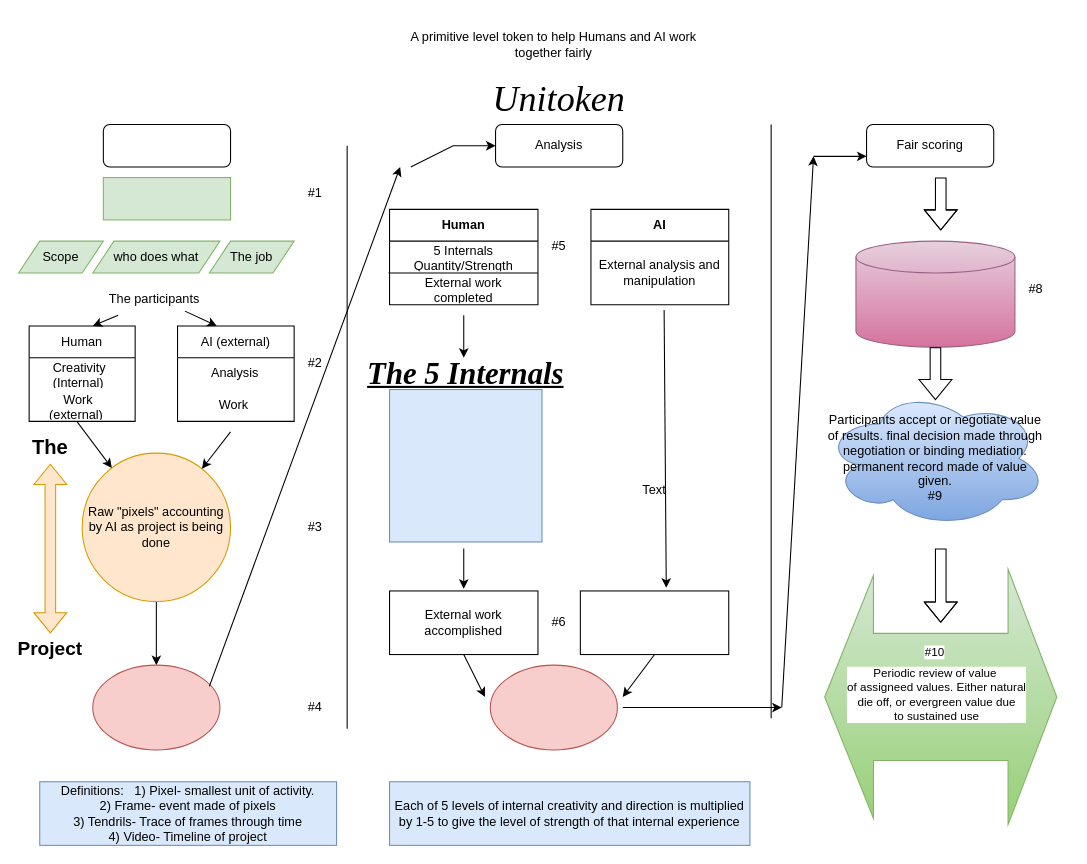
Some shapes in this 1087 by 864 pixel diagram are drawn without their labels. The shapes that lost their labels are listed below. From the top down, each one's centre as x and y in pixels, then its label:
[166,145]: Action and actors
[166,198]: Defining the project
[935,293]: Preliminary decision of value assigned to Human/AI project completion
[465,465]: 1) Eureka 2) Insight 3) Inpiration 4) Realization 5) Enthusiasm
[654,622]: AI work in support, organization and analysis
[156,707]: Initial grouping "Pixels/Frames Tendrils/Video"
[553,707]: Preliminary weighting of accomplishment internal/external #7
